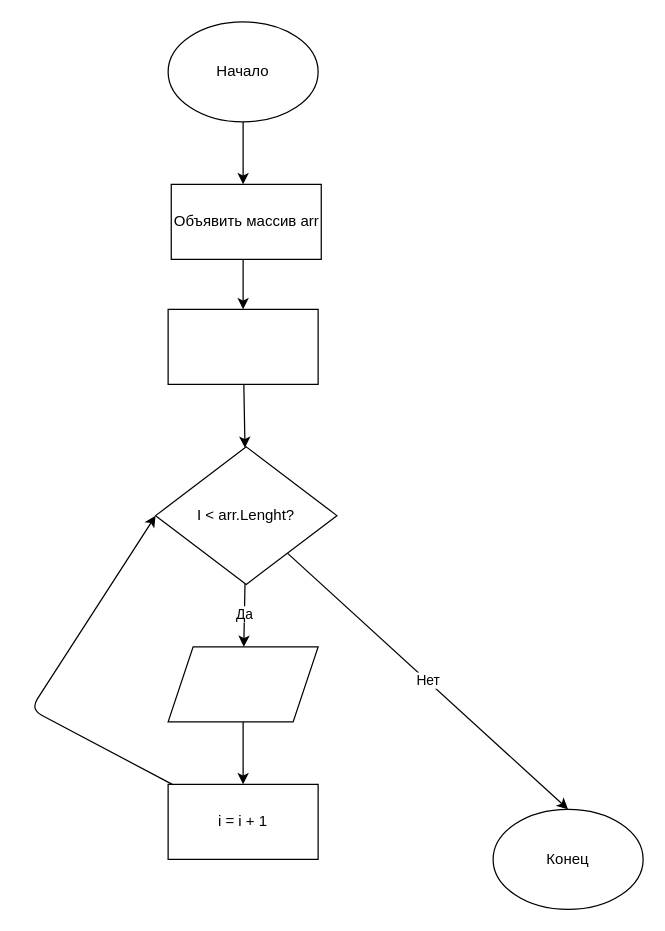
Some shapes in this 665 by 931 pixel diagram are drawn without their labels. The centre of each missing label's shape, as x and y in pixels:
"i = 0" belongs at [242,346].
"Вывести arr[i]" belongs at [242,684].
